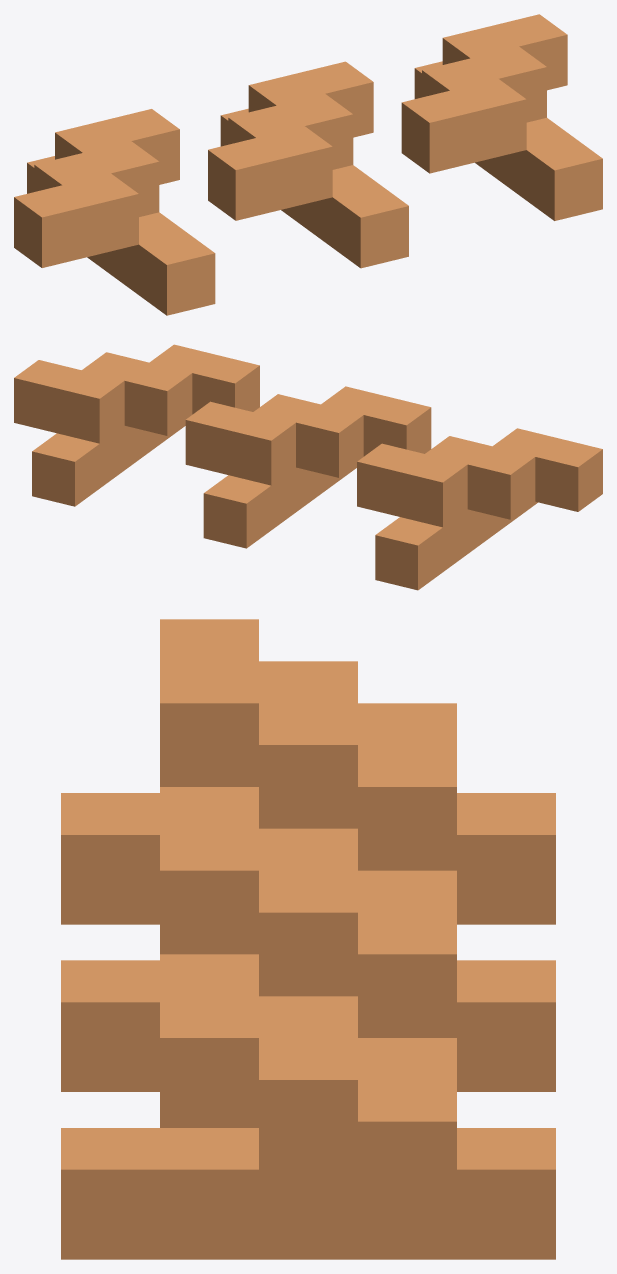
File: PAKO_Chop.fbx
The picture shows the model from 3 angles, top to bottom: view 1: azimuth 30°, elevation 25°; view 2: azimuth 150°, elevation 25°; view 3: azimuth 270°, elevation 25°; orthographic projection. The views are drawn at different scales.
Visible parts, largest first — view 1: PAKO_Chop:PAKO_Chop; view 2: PAKO_Chop:PAKO_Chop; view 3: PAKO_Chop:PAKO_Chop.
Part boxes in pixels (x1=…): PAKO_Chop:PAKO_Chop: x1=14, y1=14, x2=602, y2=315; PAKO_Chop:PAKO_Chop: x1=14, y1=344, x2=602, y2=590; PAKO_Chop:PAKO_Chop: x1=61, y1=619, x2=555, y2=1259.
Size of the model in its own units: 12 by 2 by 5.
